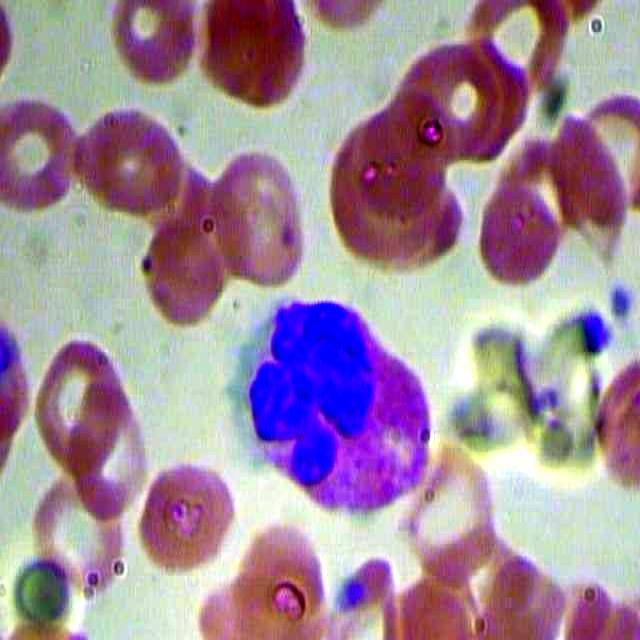RBC: (209, 144, 309, 287), (29, 467, 129, 609), (35, 336, 127, 475), (200, 1, 311, 115), (71, 103, 182, 217), (144, 462, 242, 582), (1, 96, 82, 213), (477, 178, 561, 290), (75, 393, 146, 515), (107, 1, 203, 87)
WBC: (240, 292, 438, 524)
